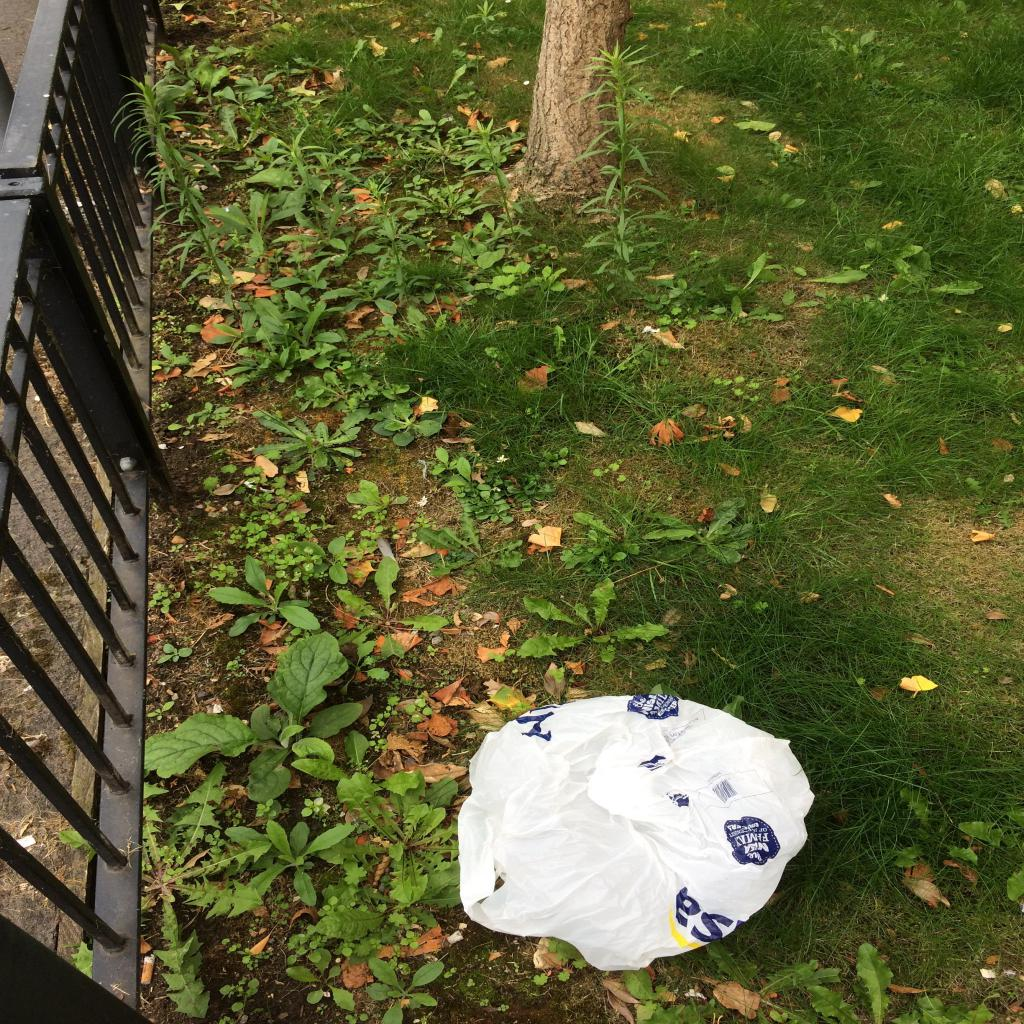Single-use carrier bag: (458, 694, 815, 971)
